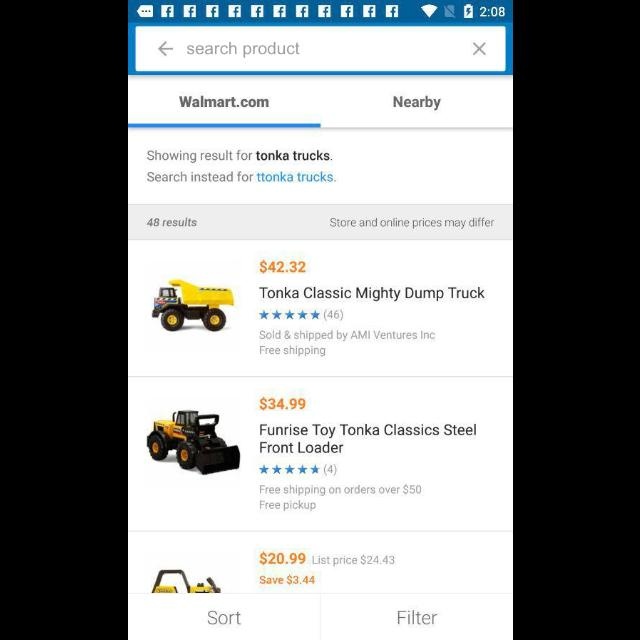icon: (258, 310, 320, 320), (258, 464, 320, 474), (157, 42, 173, 56), (472, 42, 486, 56)
image: (146, 409, 240, 476), (151, 279, 235, 333), (151, 569, 221, 593)
input: (135, 27, 505, 72)
multitab: (128, 76, 512, 128)
text: (259, 422, 475, 454), (258, 286, 484, 304), (146, 150, 332, 163), (260, 484, 420, 498), (259, 330, 435, 342), (330, 218, 494, 230), (147, 172, 336, 182), (186, 42, 300, 58), (179, 96, 269, 108), (312, 555, 394, 567), (259, 345, 325, 357), (259, 396, 305, 412), (258, 574, 314, 586), (258, 552, 306, 566), (260, 500, 316, 512), (258, 260, 306, 274), (392, 96, 440, 110), (146, 218, 197, 228), (323, 309, 342, 321), (324, 464, 336, 476)
textbutton: (128, 592, 320, 640), (320, 592, 512, 640)
toolbar: (128, 24, 512, 76)
uppertaskbar: (128, 1, 512, 23)
